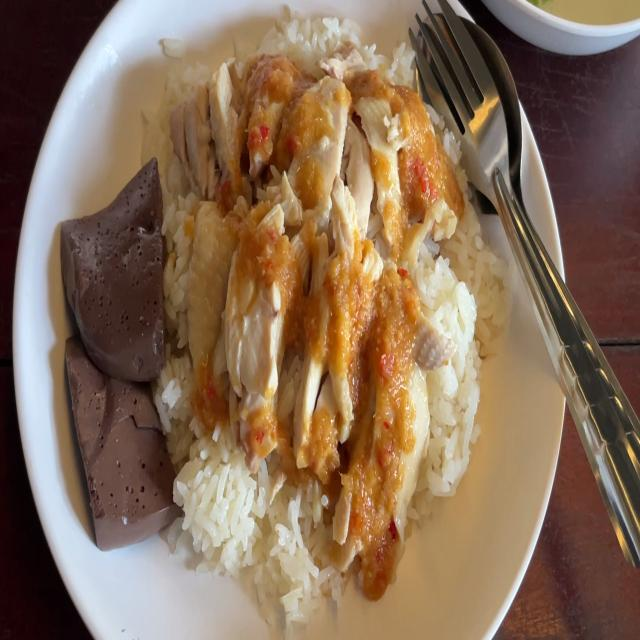boiled_chicken: (180, 65, 441, 490)
boiled_chicken_blood_jelly: (60, 148, 171, 383), (66, 327, 178, 544)
chicken_rice: (71, 37, 489, 611)
